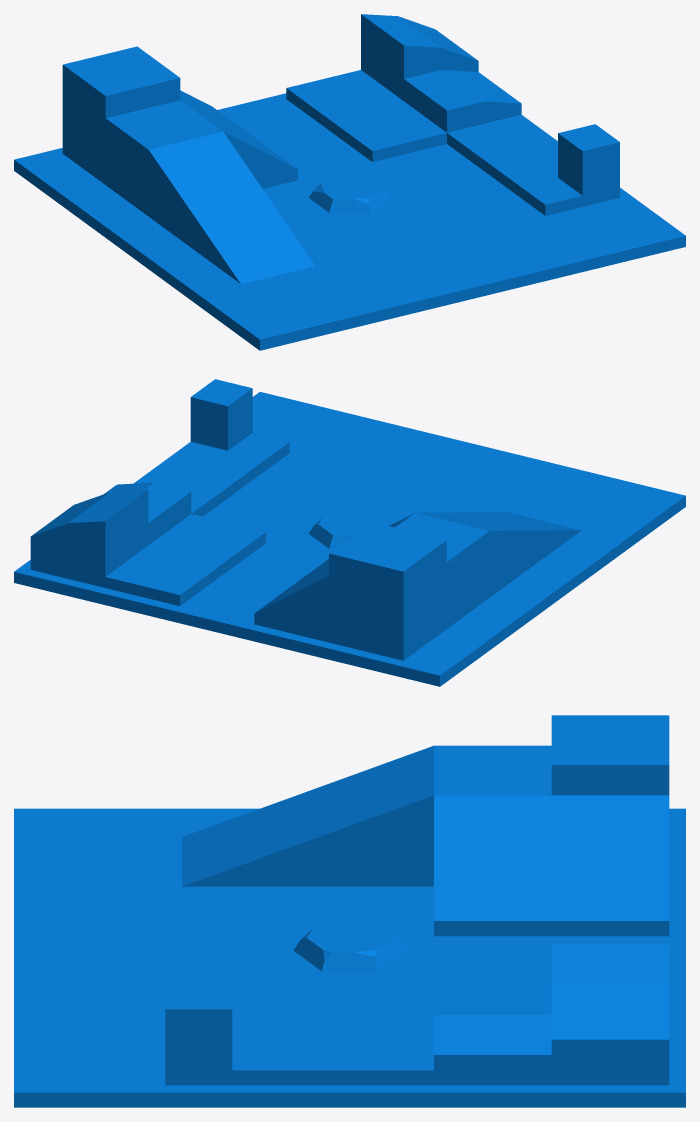
The model's file is example_scene.glb.
3 views of the same model, one above another, from view 1: azimuth 30°, elevation 25°; view 2: azimuth 150°, elevation 25°; view 3: azimuth 270°, elevation 25° (orthographic). The views are drawn at different scales.
Visible parts, largest first — view 1: Floor_castnoshadow, Cube.002, Cube.001, Cylinder; view 2: Floor_castnoshadow, Cube.001, Cube.002, Cylinder; view 3: Floor_castnoshadow, Cube.002, Cube.001, Cylinder.
Part boxes in pixels (<box>): Floor_castnoshadow: <box>14,93,685,350</box>; Cube.002: <box>62,46,315,284</box>; Cube.001: <box>286,14,619,215</box>; Cylinder: <box>308,174,391,212</box>; Floor_castnoshadow: <box>14,392,685,686</box>; Cube.001: <box>30,379,289,605</box>; Cube.002: <box>254,512,581,660</box>; Cylinder: <box>308,510,385,548</box>; Floor_castnoshadow: <box>14,808,685,1107</box>; Cube.002: <box>182,715,669,936</box>; Cube.001: <box>165,944,669,1085</box>; Cylinder: <box>293,918,406,971</box>.
Bounding box in the file's own units: 40 × 9 × 40.
